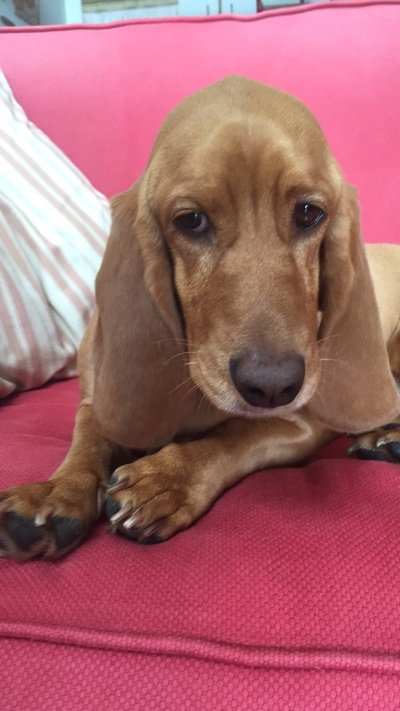daisy: (67, 66, 400, 469)
